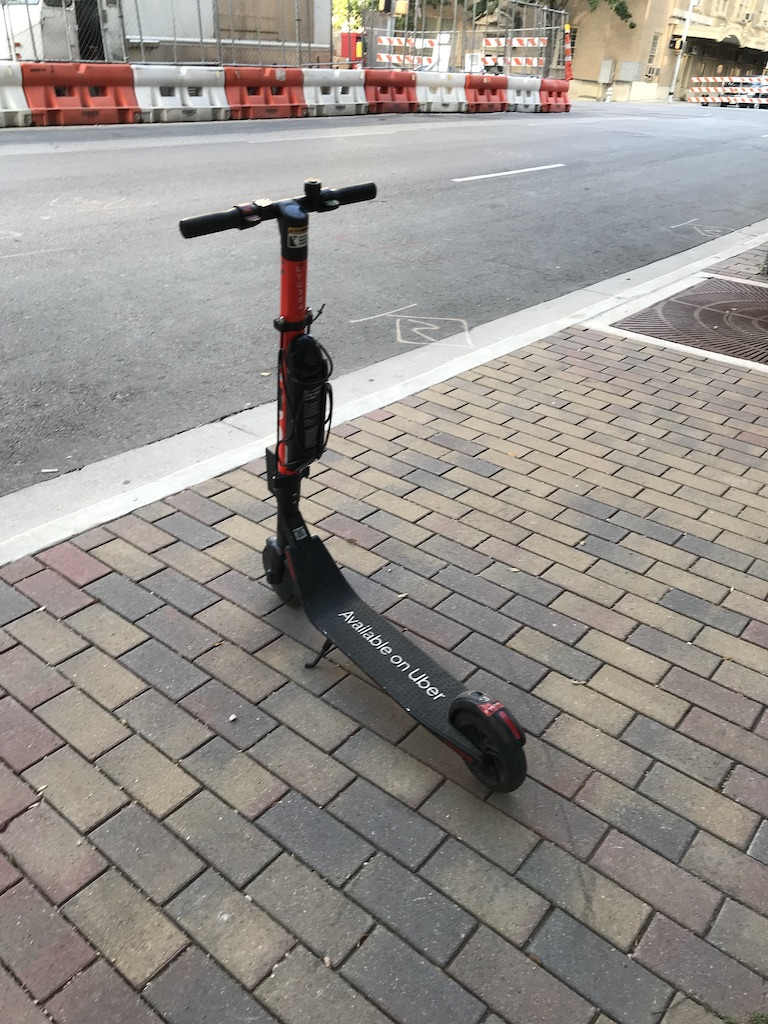scooter: (179, 178, 531, 795)
